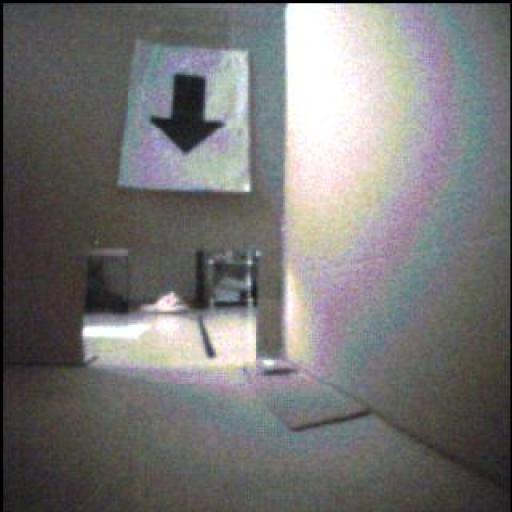arrow: (151, 76, 225, 155)
